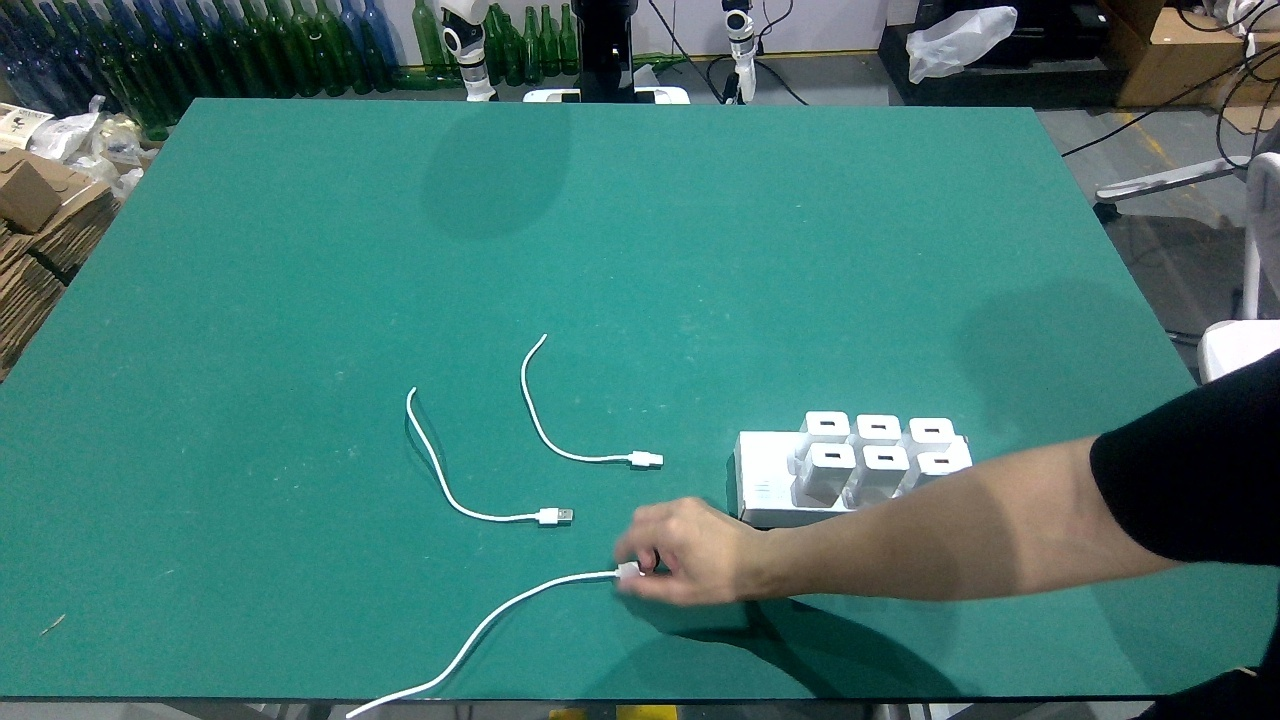usb_a_port: (822, 450, 843, 461), (875, 452, 896, 463), (817, 419, 840, 428), (922, 426, 942, 436), (931, 457, 952, 466), (868, 423, 889, 431)
